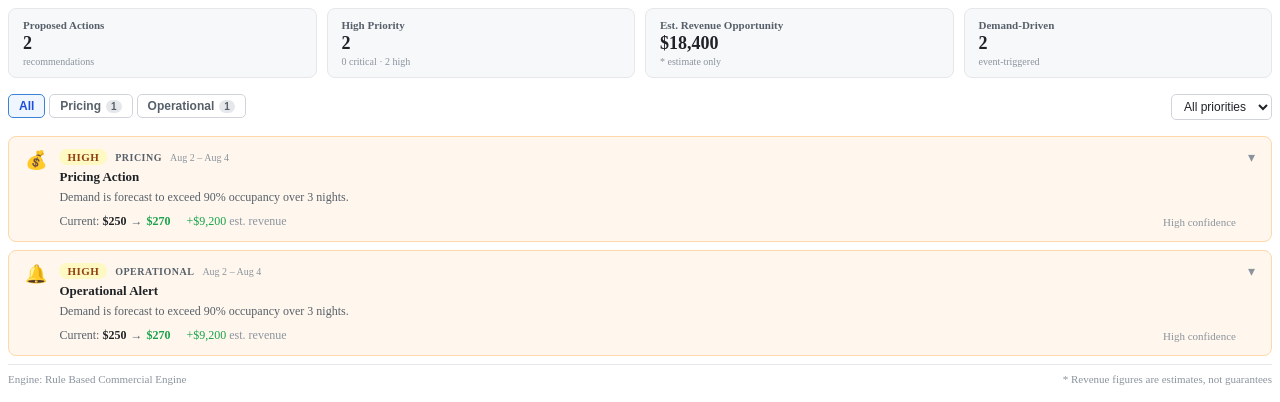
Test: RecommendationsPanel › filters recommendations by category
Note: Click "Operational" tab
Click the button "Operational1": (191, 106) [137, 94, 246, 118]
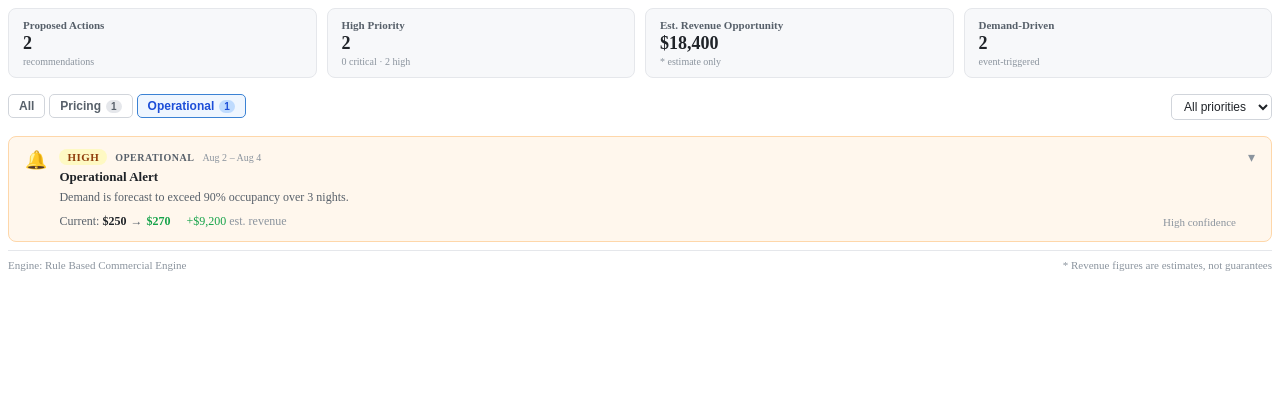
expect the text "Operational Alert" is shown: met, box [60, 169, 158, 184]
expect the button "Pricing Action" is gone: met
